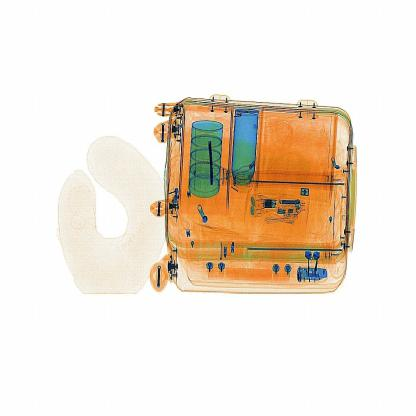knife: (203, 132, 227, 198)
